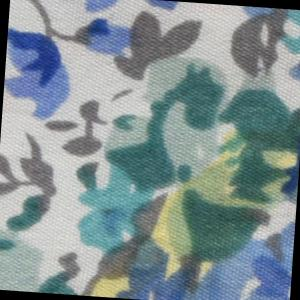Stain: (78, 102, 300, 300)
